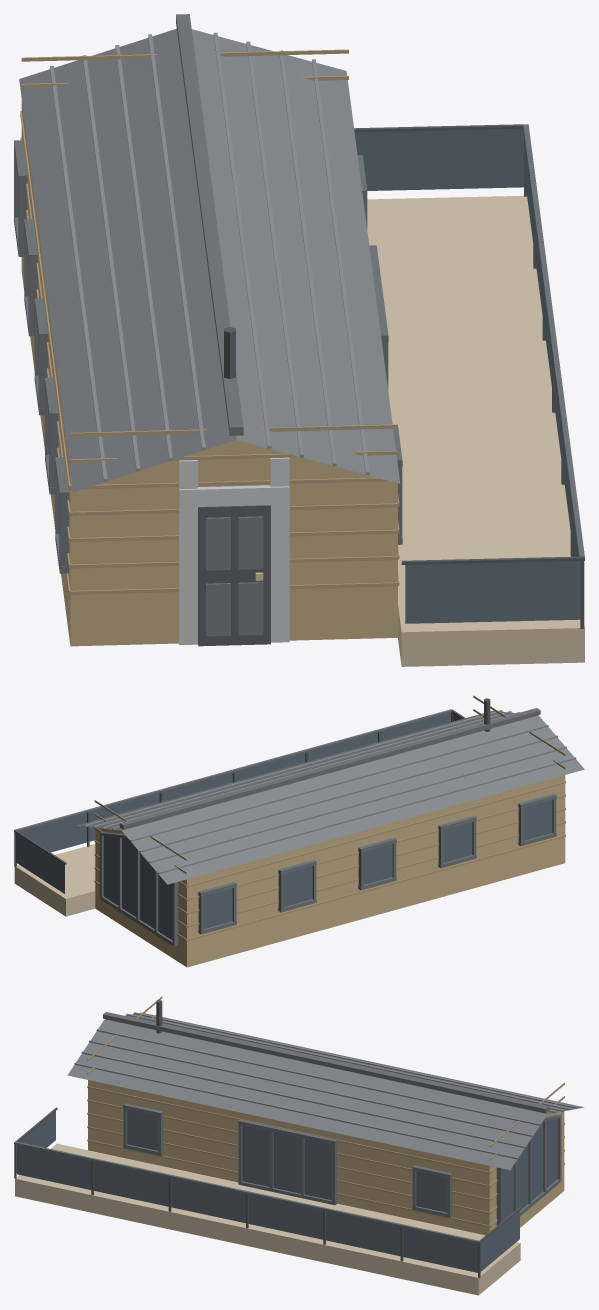
3 renders of one model, top to bottom at view 1: azimuth 30°, elevation 25°; view 2: azimuth 150°, elevation 25°; view 3: azimuth 270°, elevation 25°, orthographic. The views are drawn at different scales.
Visible parts, largest first — view 1: slate, larch, door_wood, slate_dk, slate_lt, door_wood_p, window_glass_007, window_glass_008, stone_band, door_dark_p, door_dark, pipe; view 2: slate, door_wood, slate_dk, slate_lt, door_wood_p, window_glass_014, larch, window_glass_006, window_glass_008, window_glass_017, window_glass_018, window_glass_019 (+8 smaller); view 3: slate, door_wood, larch, slate_dk, slate_lt, door_wood_p, window_glass_014, window_glass_004, window_glass_005, window_glass_002, window_glass_001, window_glass_006 (+9 smaller).
Boxes of the visible parts, left/top/right/bottom form: slate: left=19, top=29, right=400, bottom=492; larch: left=367, top=195, right=584, bottom=666; door_wood: left=21, top=99, right=397, bottom=646; slate_dk: left=14, top=14, right=584, bottom=573; slate_lt: left=50, top=32, right=369, bottom=481; door_wood_p: left=20, top=49, right=399, bottom=594; window_glass_007: left=405, top=561, right=580, bottom=623; window_glass_008: left=354, top=128, right=523, bottom=190; stone_band: left=178, top=457, right=289, bottom=644; door_dark_p: left=206, top=516, right=263, bottom=636; door_dark: left=198, top=505, right=270, bottom=646; pipe: left=224, top=124, right=584, bottom=628; slate: left=76, top=710, right=584, bottom=884; door_wood: left=95, top=775, right=565, bottom=967; slate_dk: left=15, top=708, right=556, bottom=946; slate_lt: left=84, top=710, right=576, bottom=873; door_wood_p: left=94, top=695, right=565, bottom=941; window_glass_014: left=103, top=836, right=172, bottom=940; larch: left=14, top=844, right=95, bottom=916; window_glass_006: left=19, top=813, right=86, bottom=852; window_glass_008: left=16, top=833, right=64, bottom=893; window_glass_017: left=363, top=844, right=392, bottom=884; window_glass_018: left=443, top=822, right=472, bottom=862; window_glass_019: left=523, top=800, right=552, bottom=840; slate: left=67, top=1012, right=584, bottom=1169; door_wood: left=88, top=1080, right=564, bottom=1235; larch: left=15, top=1143, right=520, bottom=1295; slate_dk: left=15, top=1012, right=561, bottom=1243; slate_lt: left=74, top=1012, right=577, bottom=1159; door_wood_p: left=87, top=996, right=564, bottom=1227; window_glass_014: left=502, top=1119, right=557, bottom=1220; window_glass_004: left=248, top=1194, right=323, bottom=1239; window_glass_005: left=326, top=1211, right=400, bottom=1256; window_glass_002: left=94, top=1161, right=168, bottom=1206; window_glass_001: left=17, top=1145, right=91, bottom=1189; window_glass_006: left=403, top=1227, right=477, bottom=1272.
Bounding box in the file's own units: 11.91 × 4.05 × 14.71.
